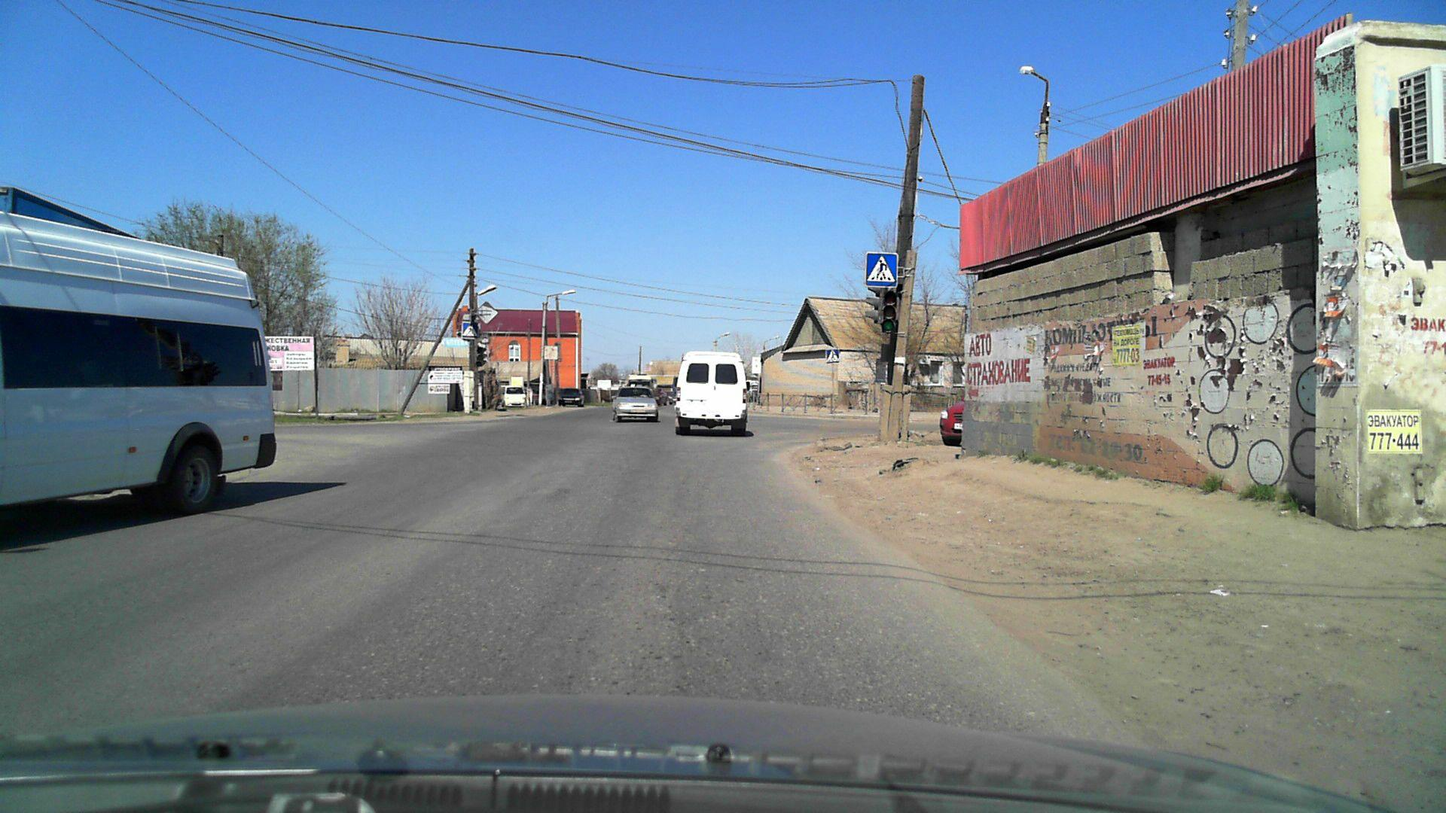road_sign: (864, 252, 898, 288)
